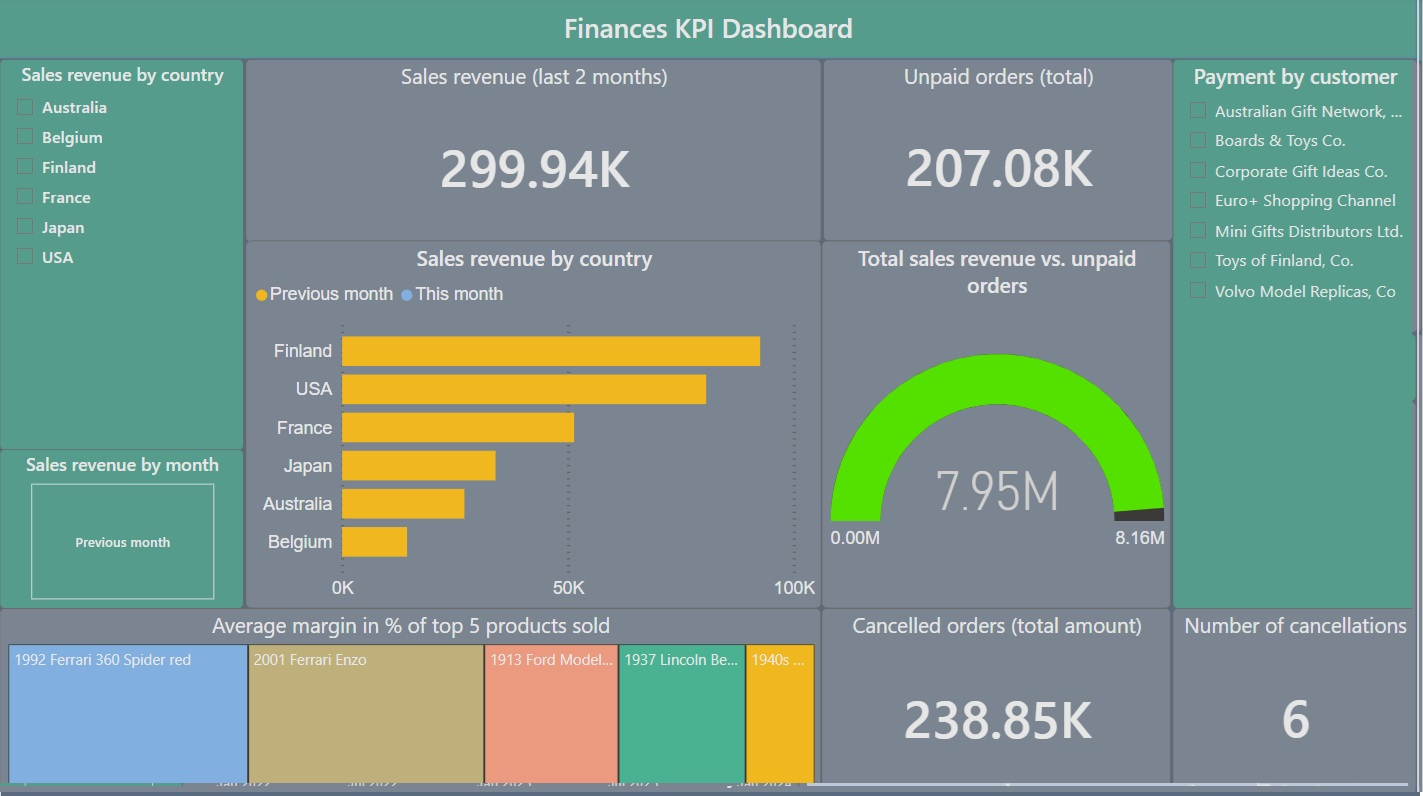

The page's visual inventory and layout, read from the dashboard file:
{"tool":"powerbi","page":{"name":"FINANCES","canvas":[1280,720],"ordinal":5},"visuals":[{"type":"shape","box":[0,0,1280,56.2],"z":0},{"type":"slicer","title":"Sales revenue by country","fields":{"Values":["Query1.country"]},"box":[1.2,56.2,220,352.5],"z":1000},{"type":"slicer","title":"Sales revenue by month","fields":{"Values":["FN_1.month"]},"box":[1.2,407.5,220,143.8],"z":2000},{"type":"textbox","title":"Finances KPI Dashboard","box":[497.5,12.5,285,33.8],"z":3000},{"type":"treemap","title":"Average margin in % of top 5 products sold","fields":{"Group":["FN_3.productName"],"Values":["Sum(FN_3.averageMarginPerc)"]},"box":[1.2,551.2,740,167.5],"z":4000},{"type":"card","title":"Cancelled orders (total amount)","fields":{"Values":["Sum(FN_4.orderedAmount)"]},"box":[742,551.2,315,168.1],"z":5000},{"type":"card","title":"Number of cancellations","fields":{"Values":["CountNonNull(FN_4.orderNumber)"]},"box":[1057.5,551.2,220,167.5],"z":6000},{"type":"gauge","title":"Total sales revenue vs. unpaid orders","fields":{"Y":["Sum(FN_2.amount_paid)"],"MaxValue":["Sum(FN_2.amount_ordered)"]},"box":[742,219.6,315,331.6],"z":7000},{"type":"card","title":"Sales revenue (last 2 months)","fields":{"Values":["Sum(FN_1.lastTwoMonths)"]},"box":[222.5,56.2,518.8,165],"z":8000},{"type":"barChart","title":"Sales revenue by country","fields":{"Category":["Query1.country"],"Y":["Sum(FN_1.previousMonth)","Sum(FN_1.thisMonth)"]},"box":[222.5,220,518.8,331.2],"z":9000},{"type":"slicer","title":"Payment by customer","fields":{"Values":["FN_2.customerName"]},"box":[1057.5,56.2,220,495],"z":10000},{"type":"card","title":"Unpaid orders (total)","fields":{"Values":["Sum(FN_2.unpaid)"]},"box":[742.5,56.2,315,163.8],"z":11000}]}

Visuals, with their boxes in screenshot pixels (x1, y1, x2, y2), scaled from the page's 1280x720 canvas onto the 1423x796 screenshot:
shape: (0, 0, 1422, 62)
"Sales revenue by country" slicer: (1, 62, 246, 452)
"Sales revenue by month" slicer: (1, 451, 246, 609)
"Finances KPI Dashboard" textbox: (553, 14, 870, 51)
"Average margin in % of top 5 products sold" treemap: (1, 609, 824, 795)
"Cancelled orders (total amount)" card: (825, 609, 1175, 795)
"Number of cancellations" card: (1176, 609, 1420, 795)
"Total sales revenue vs. unpaid orders" gauge: (825, 243, 1175, 609)
"Sales revenue (last 2 months)" card: (247, 62, 824, 245)
"Sales revenue by country" barChart: (247, 243, 824, 609)
"Payment by customer" slicer: (1176, 62, 1420, 609)
"Unpaid orders (total)" card: (825, 62, 1176, 243)
